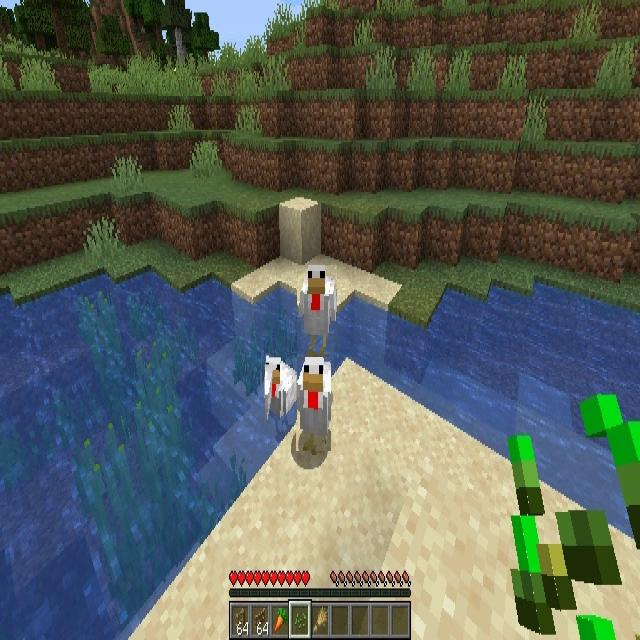duck: (296, 358, 331, 452), (298, 266, 338, 348), (265, 353, 297, 420)
